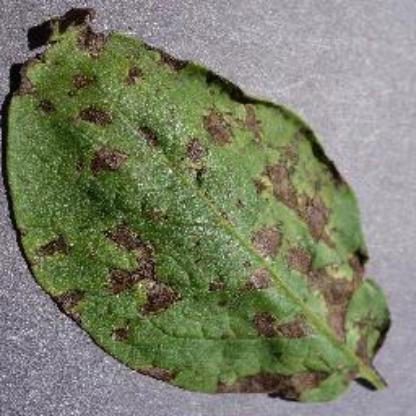Early-Blight: (3, 3, 400, 405)
